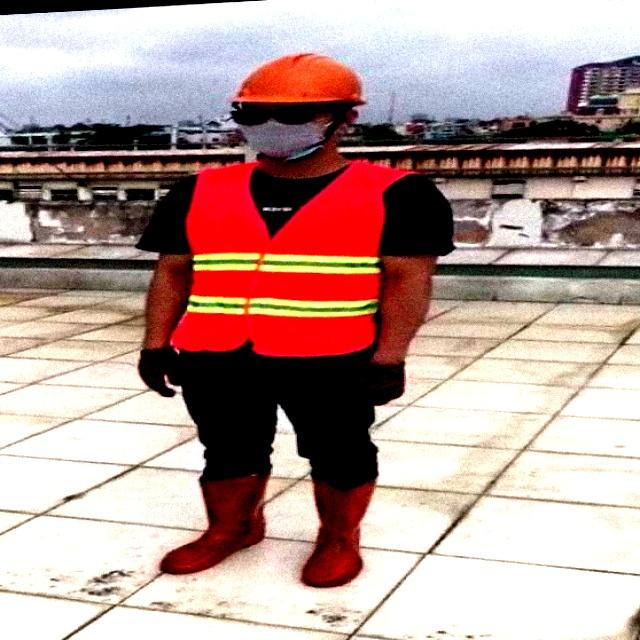helmet: (223, 46, 366, 102)
safety_vest: (164, 154, 391, 361)
